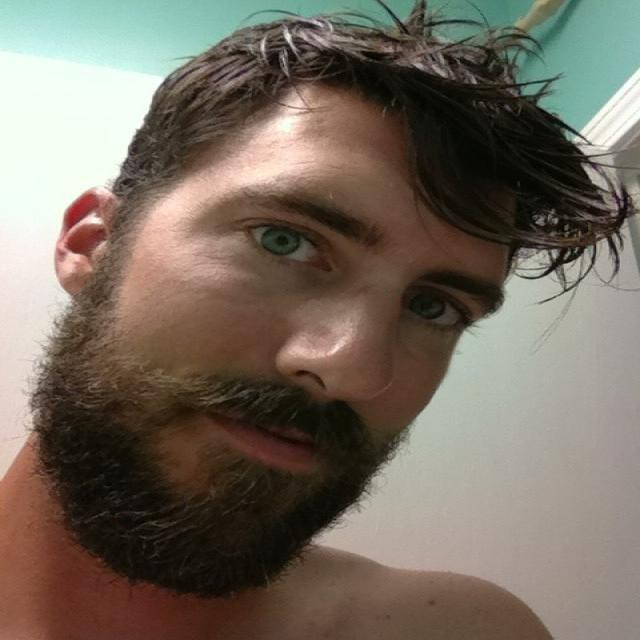earlobe: (54, 252, 98, 300)
eye: (238, 219, 336, 273), (395, 284, 476, 329)
nose: (260, 369, 388, 427)
wholeear: (54, 183, 128, 300)
